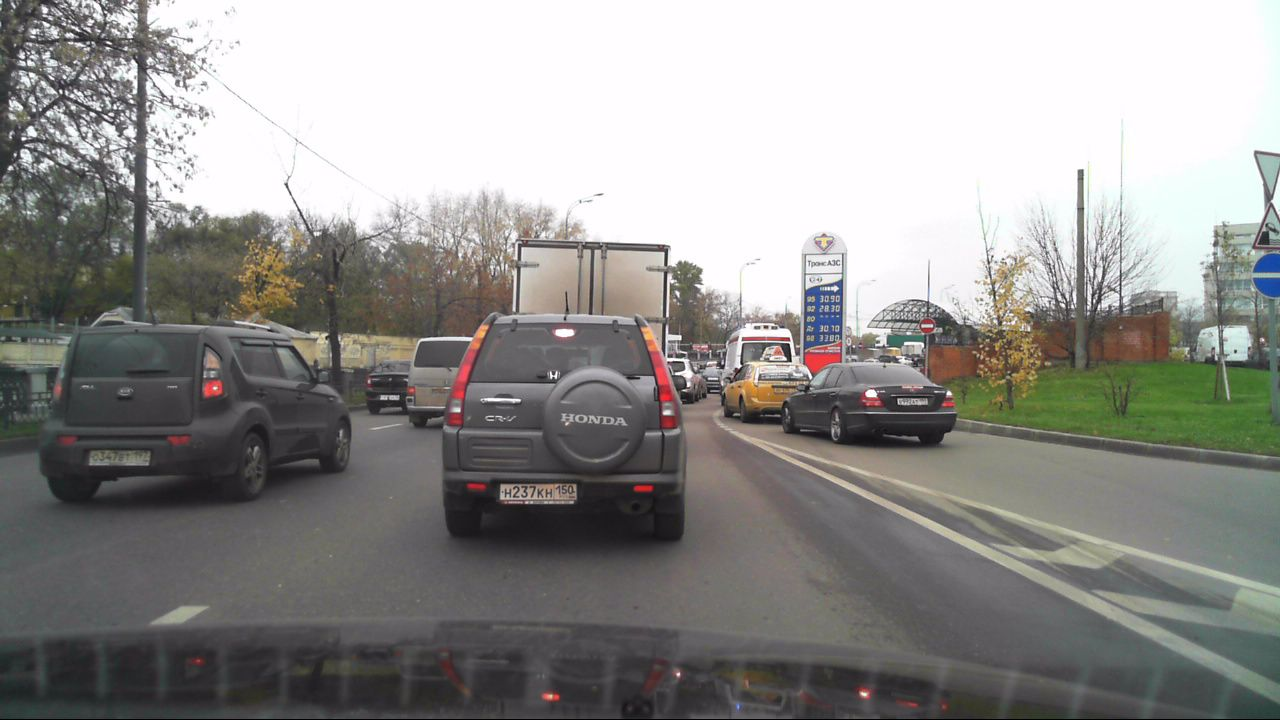Turn Right: (1251, 253, 1280, 298)
